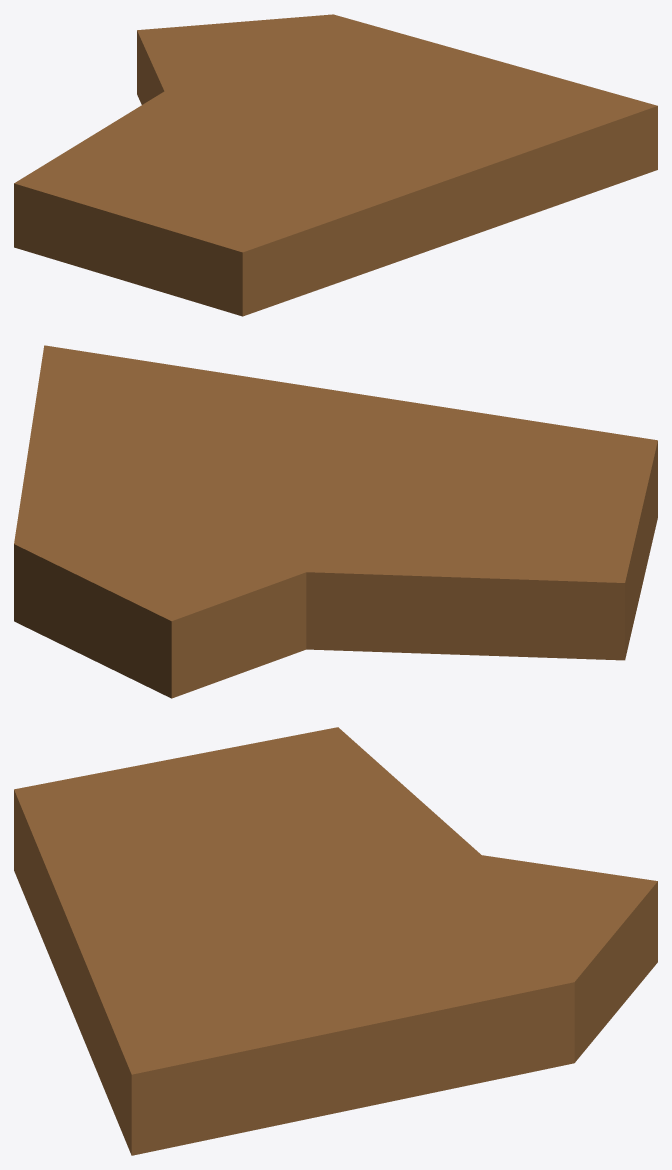
The model's file is x_proval_00_256_1_rmstrd.fbx.
The picture shows the model from 3 angles, top to bottom: view 1: azimuth 30°, elevation 25°; view 2: azimuth 150°, elevation 25°; view 3: azimuth 270°, elevation 25°; orthographic projection. The views are drawn at different scales.
Visible parts, largest first — view 1: x_proval_00_256_1_rmstrd1; view 2: x_proval_00_256_1_rmstrd1; view 3: x_proval_00_256_1_rmstrd1.
Part boxes in pixels (box(x1,y1,x2,y2)): x_proval_00_256_1_rmstrd1: box(14, 14, 657, 316); x_proval_00_256_1_rmstrd1: box(14, 345, 657, 698); x_proval_00_256_1_rmstrd1: box(14, 727, 657, 1155).
Bounding box in the file's own units: 1.84 × 0.2 × 1.44.
